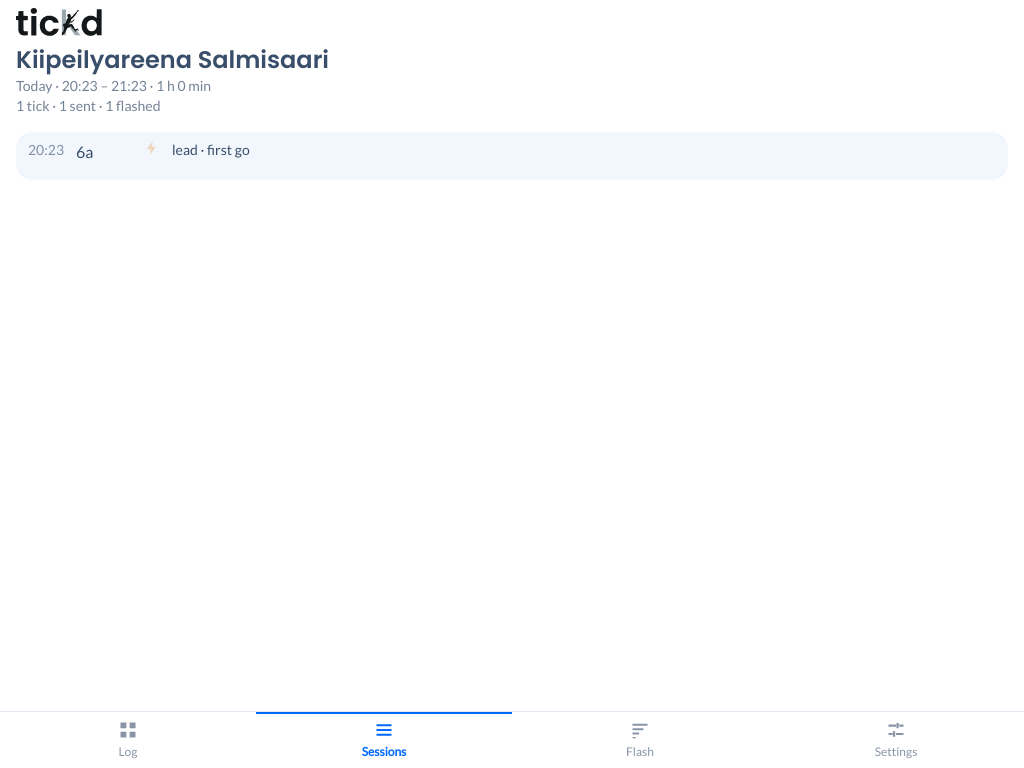
Test: correcting a go from a closed session › re-grades it, and the row follows without a reload
Expected: the element that starts with "Kiipeilyareena Salmisaari" is shown, [16,43,1008,180]
Click the button with aria-label "Detail for 6a" at coordinates (46, 150), box [16,132,1008,180]
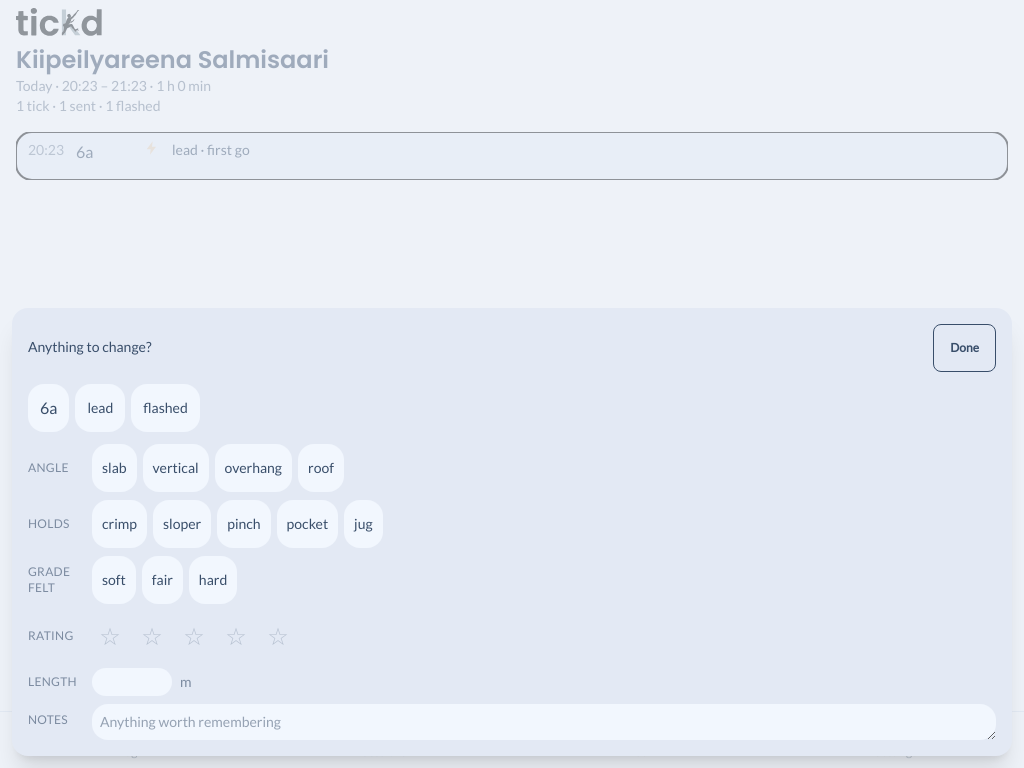
Click the button named "Grade, 6a" at coordinates (49, 408), box [28,384,69,432]
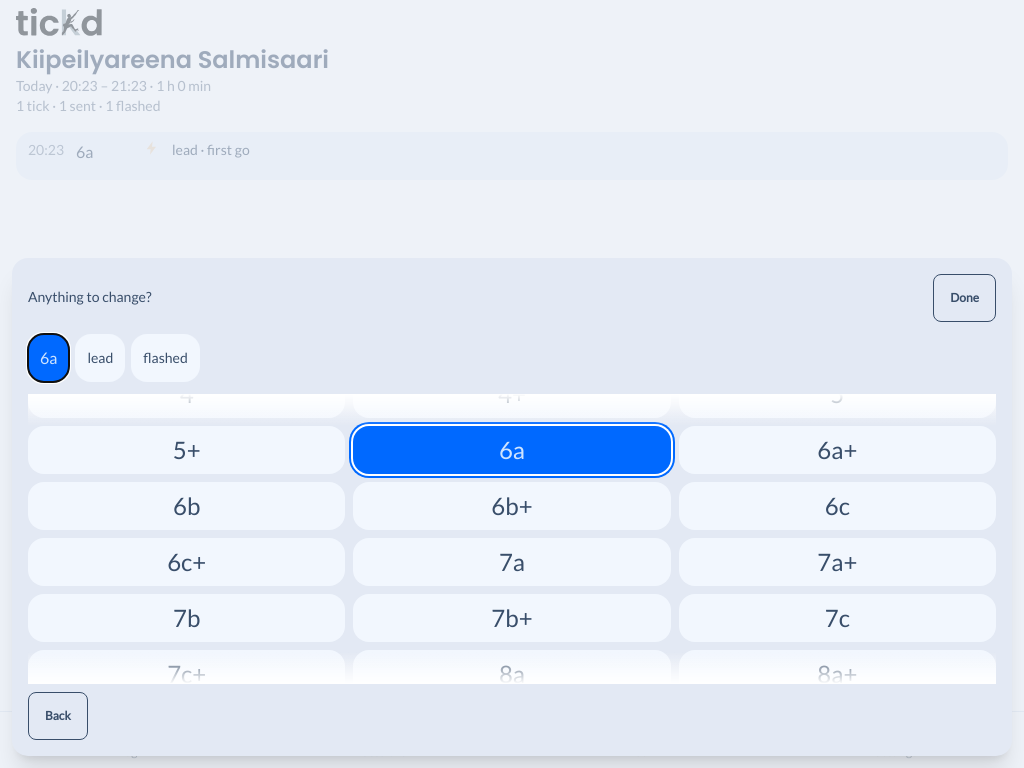
Click the button named "Grade 6b+" at coordinates (512, 506), box [353,482,671,530]
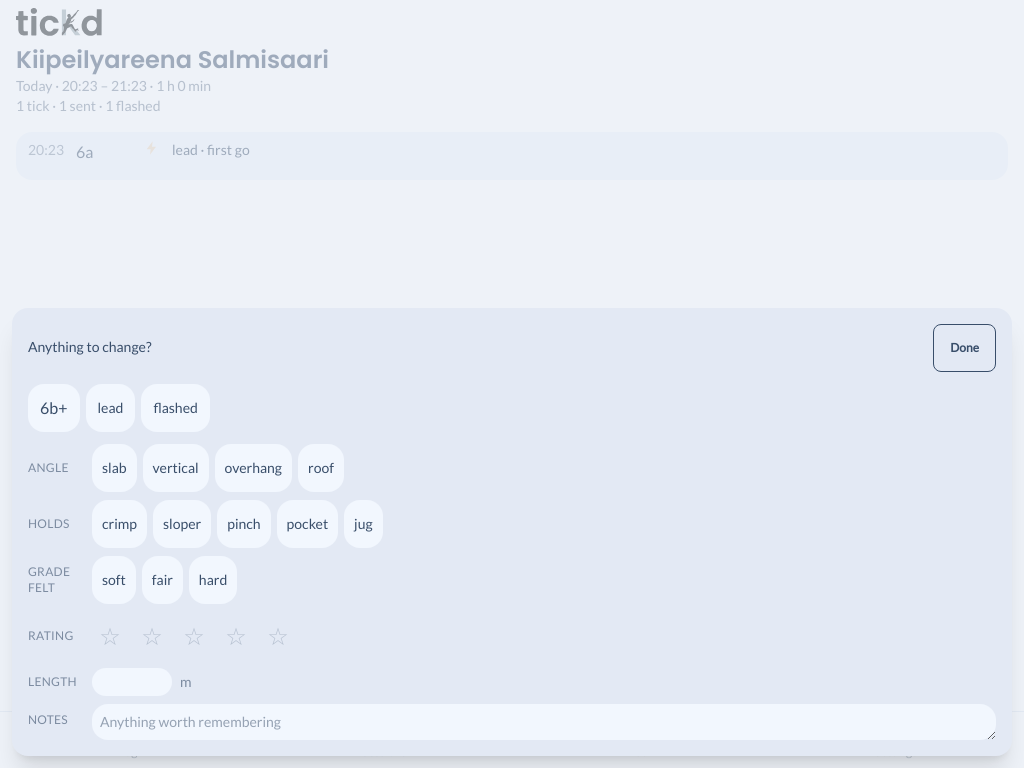
Result: the button named "Grade, 6a" reads "6b+" at [28,384,80,432]
Click the button "Done" at coordinates (965, 348), box [933,324,996,372]
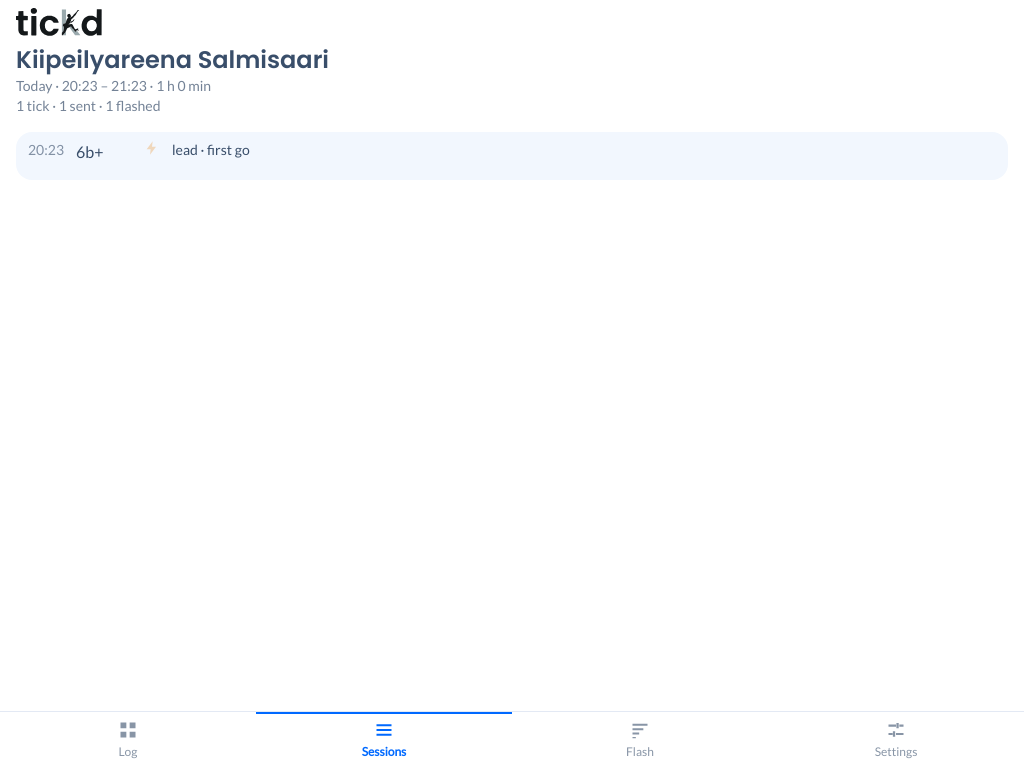
Result: the button with aria-label "Detail for 6b+" is shown at [16,132,1008,180]
